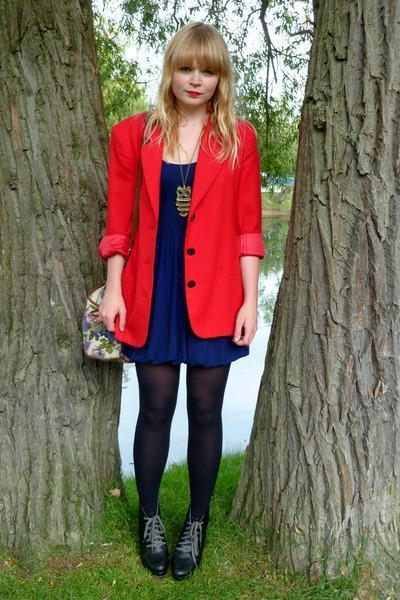bag: (76, 309, 124, 358)
dress: (132, 161, 248, 371)
jacket: (99, 110, 263, 346)
shoe: (144, 506, 203, 566)
